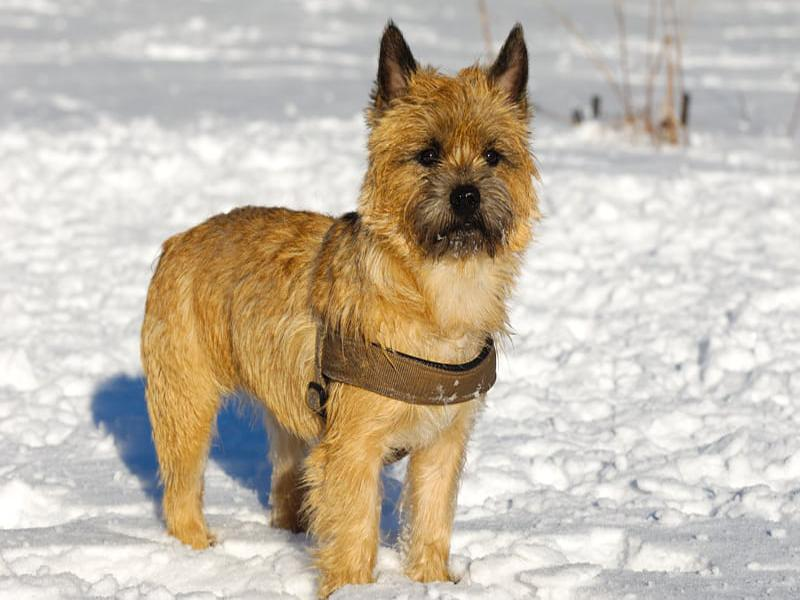dog_stand: (138, 17, 549, 600)
